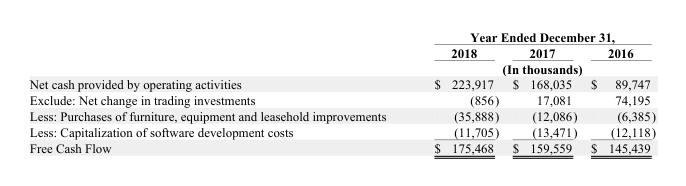table: (28, 29, 655, 154)
table column: (28, 29, 409, 154), (409, 29, 505, 154), (505, 29, 583, 154), (583, 29, 655, 154)
table column header: (28, 29, 655, 76)
table row: (28, 44, 655, 60), (28, 60, 655, 76), (28, 91, 655, 107), (28, 107, 655, 123), (28, 123, 655, 139), (28, 29, 655, 44), (28, 76, 655, 91), (28, 139, 655, 154)
table spanning cell: (409, 60, 655, 76), (409, 29, 655, 44)
